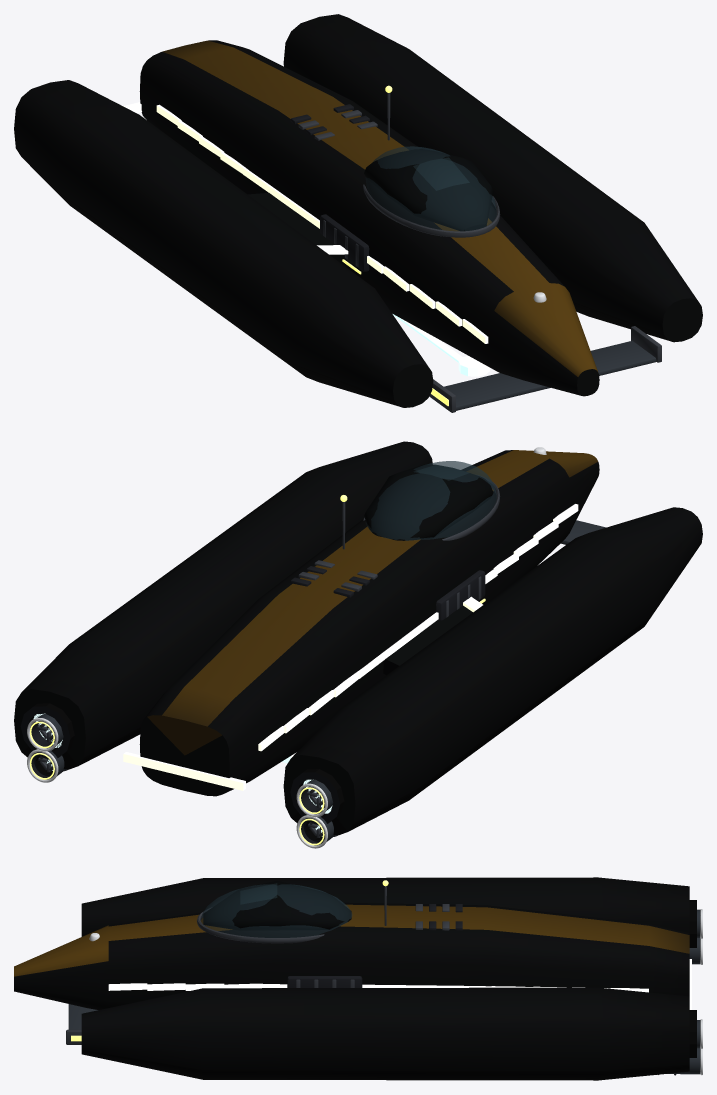
The model's file is shaddai_ship_bruiser_v01.glb.
3 views of the same model, one above another, from view 1: azimuth 30°, elevation 25°; view 2: azimuth 150°, elevation 25°; view 3: azimuth 270°, elevation 25° (orthographic). The views are drawn at different scales.
Parts seen in each view (by area): view 1: shaddai_ship_bruiser, shaddai_ship_bruiser_detail; view 2: shaddai_ship_bruiser, shaddai_ship_bruiser_detail, shaddai_ship_bruiser_thrusters; view 3: shaddai_ship_bruiser, shaddai_ship_bruiser_detail, shaddai_ship_bruiser_thrusters.
Part boxes in pixels (x1,y1,x2,y2): shaddai_ship_bruiser: [14, 14, 702, 407]; shaddai_ship_bruiser_detail: [290, 85, 661, 412]; shaddai_ship_bruiser: [14, 441, 702, 835]; shaddai_ship_bruiser_detail: [27, 447, 605, 848]; shaddai_ship_bruiser_thrusters: [20, 703, 344, 843]; shaddai_ship_bruiser: [14, 877, 691, 1080]; shaddai_ship_bruiser_detail: [66, 880, 702, 1075]; shaddai_ship_bruiser_thrusters: [689, 900, 696, 1057].
Size of the model in its own units: 2.88 by 1.35 by 5.71.
